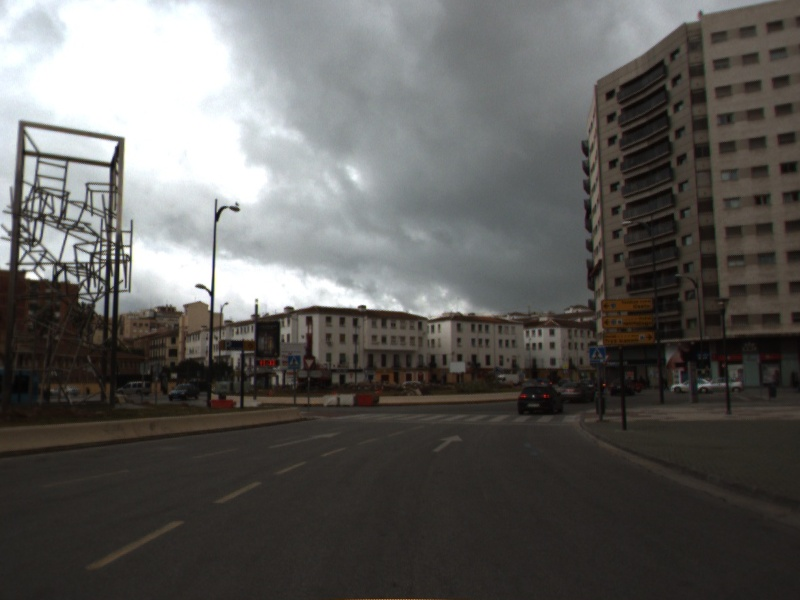STRAIGHT: (266, 429, 346, 451), (430, 433, 465, 454)
